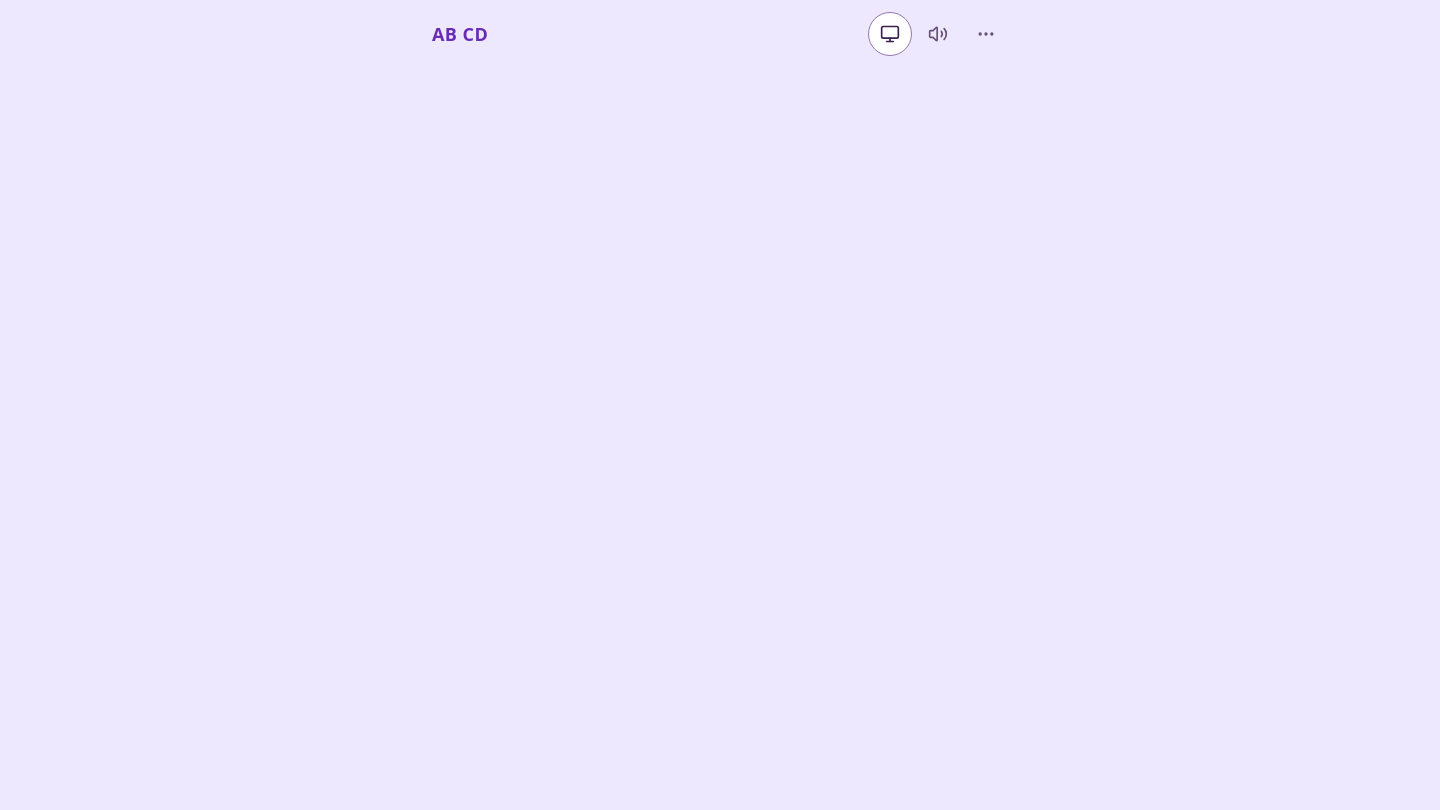
it: room options › keeps help reachable without a second toolbar button or focus trap
Expected: the button "How to play" is not shown
Click the button named "Room options".
click(986, 34)  # box [964, 12, 1008, 56]
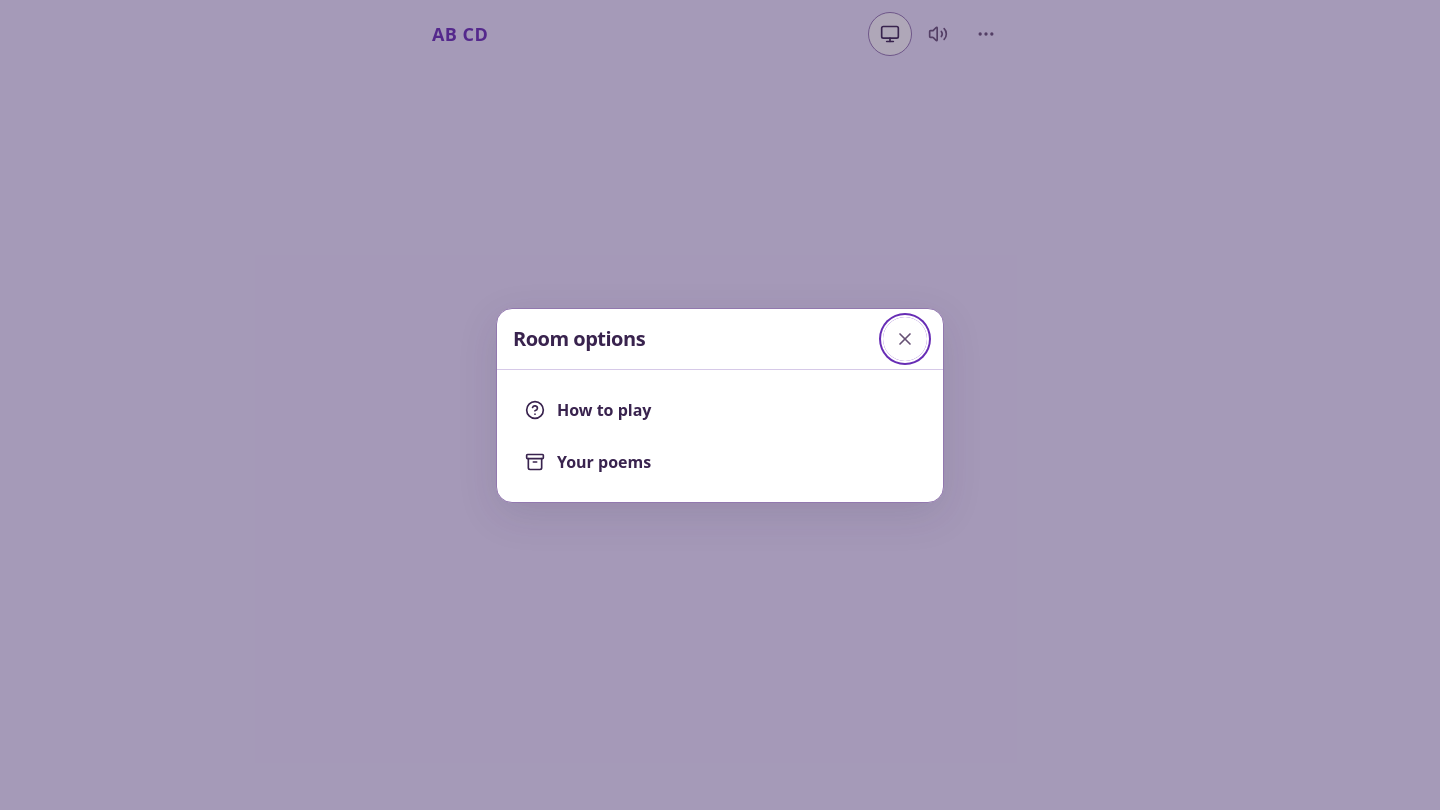
Click the button "How to play".
click(604, 410)  # box [513, 386, 927, 434]
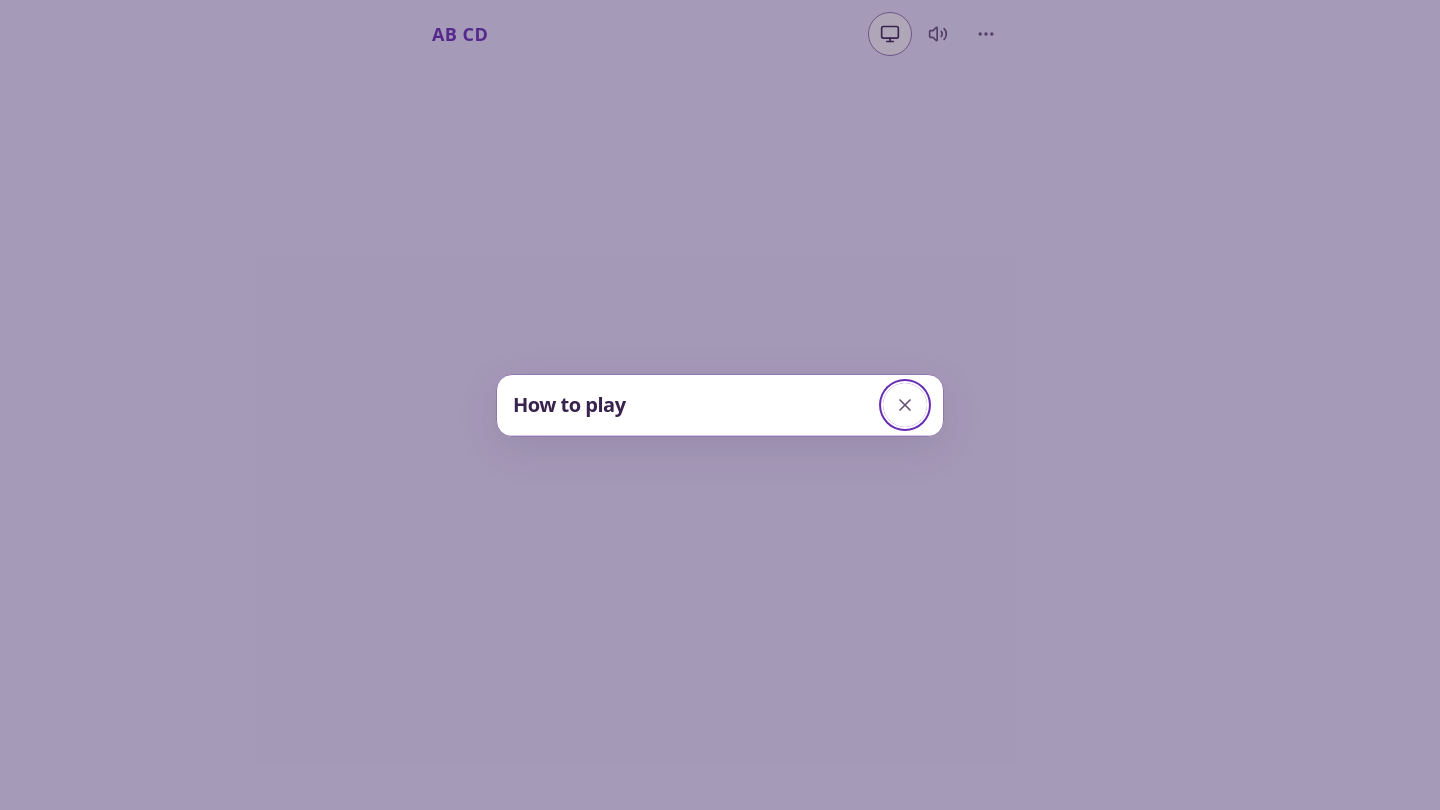
Expected: the number of dialogs is 1, [496, 374, 944, 436]
Press Escape
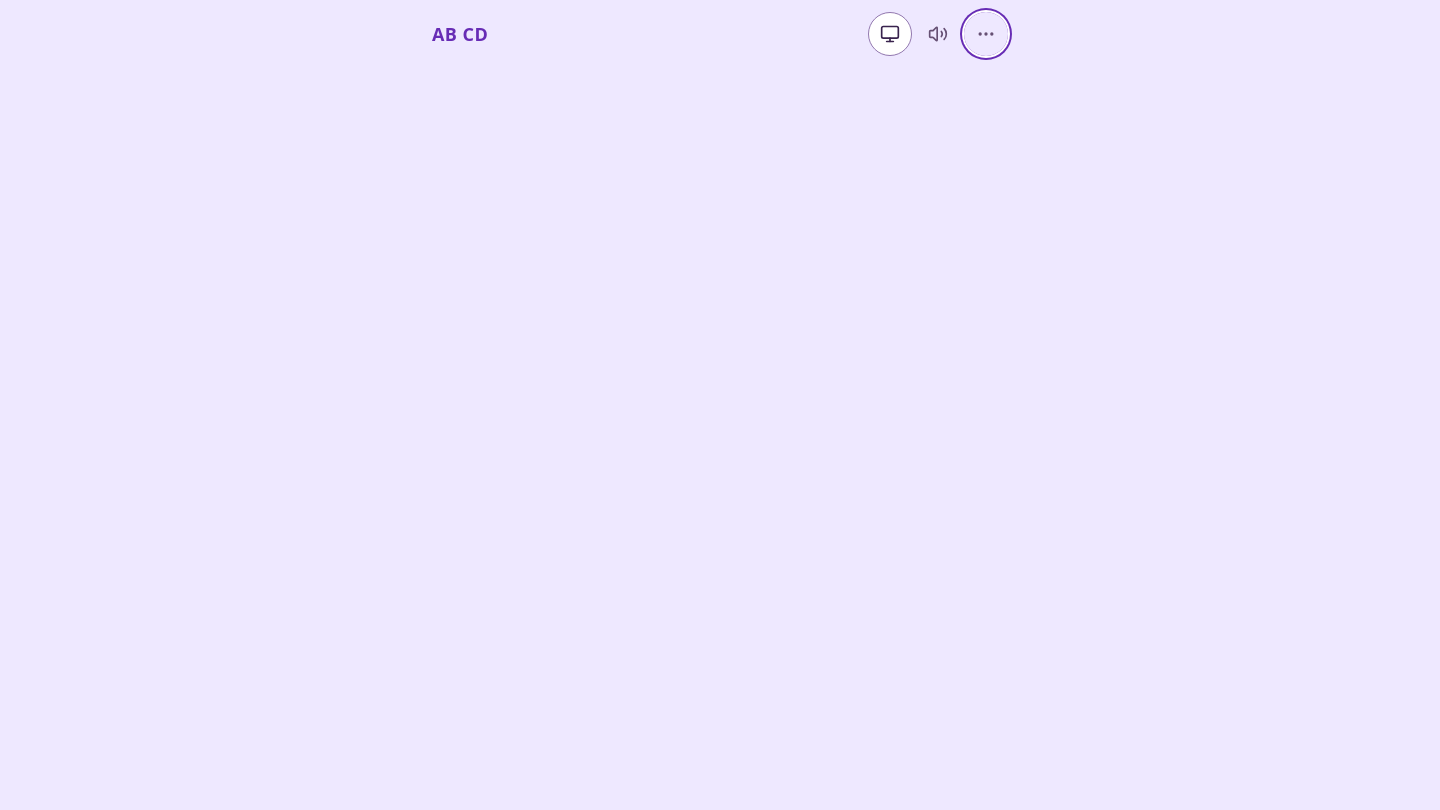
Expected: the dialog is gone
